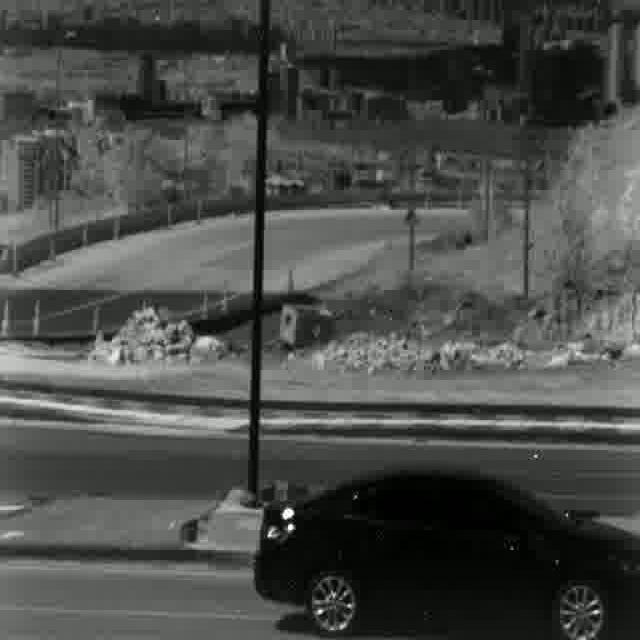Car: (253, 464, 640, 640)
